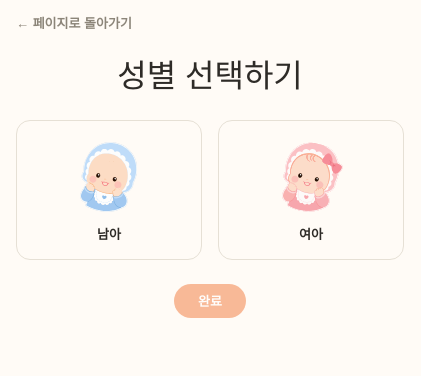
Test case: GenderSelectScreen › shows an error and stays on the page when saving fails
What coordinates should you click on to do the following:
click the button "남아"
I would click on:
 (109, 190)
Its box is [16, 120, 202, 260].
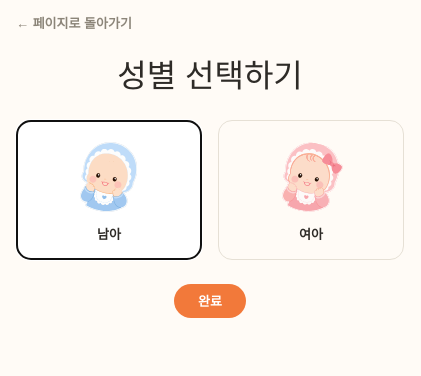
What coordinates should you click on to do the following:
click the button "완료"
I would click on:
 (210, 301)
Its box is [174, 284, 246, 318].
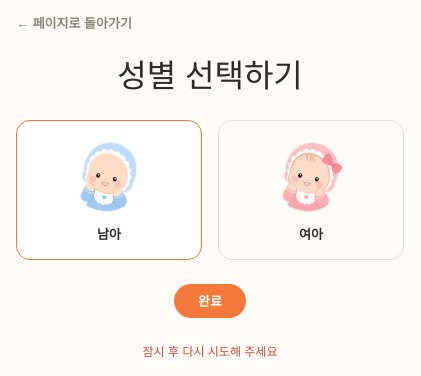
Check: the message reads "잠시 후 다시 시도해 주세요", box [142, 342, 277, 359]
